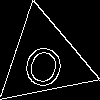O: (19, 35, 70, 91)
